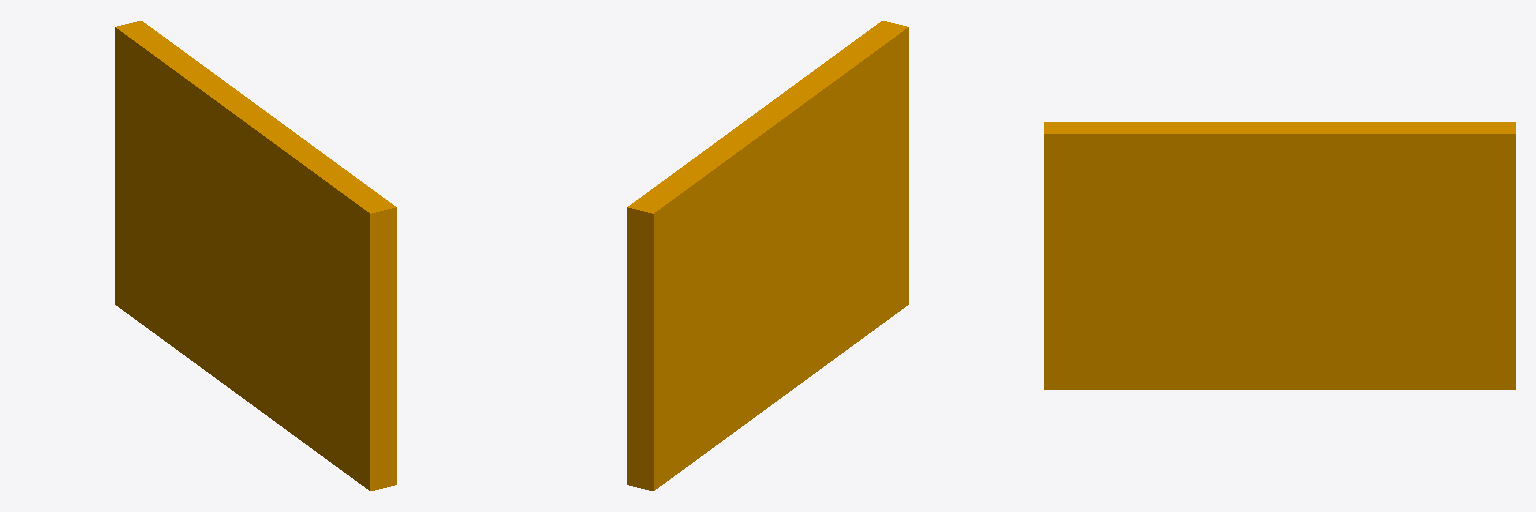
URDF robot description (object):
<?xml version="0.0"?>
	<robot name="object">
		<link name="object">
			<visual>
				<origin xyz="0 0 0"/>
				<geometry>
					<box size="0.3 5.0 3.0"/>
				</geometry>
			</visual>
			<inertial>
				<mass value="100.00"/>
			</inertial>
			<collision>
				<origin xyz="0 0 0"/>
				<geometry>
					<box size="0.3 5.0 3.0"/>
				</geometry>
			</collision>
		</link>

	</robot>

--- Render facts (derived) ---
Views: 3 orthographic renders of the robot side by side, from view 1: azimuth 30°, elevation 25°; view 2: azimuth 150°, elevation 25°; view 3: azimuth 270°, elevation 25°.
Model object with 1 links and 0 joints (none), rooted at object, posed all joints at 0.
Visible links, largest first — view 1: object; view 2: object; view 3: object.
Link boxes in pixels (x1,y1,x2,y2): object: (115, 21, 396, 490); object: (627, 21, 908, 490); object: (1044, 122, 1515, 389).
Bounding box of the posed robot: 0.3 × 5 × 3 m (x, y, z).
Geometry: primitives only (box / cylinder / sphere), no mesh files.